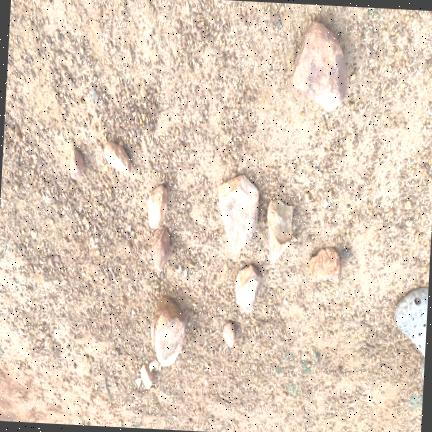Rocks: (291, 21, 346, 109), (218, 174, 257, 252), (150, 296, 184, 365), (267, 199, 292, 262), (235, 264, 259, 311), (309, 247, 340, 280), (151, 226, 171, 271), (103, 141, 130, 174), (147, 184, 166, 228), (70, 147, 83, 179), (140, 363, 155, 388), (223, 321, 234, 346), (151, 46, 160, 64), (47, 253, 59, 266), (13, 125, 21, 142), (149, 358, 158, 370), (140, 85, 148, 98), (54, 30, 62, 42), (341, 248, 349, 258), (134, 377, 142, 387), (13, 180, 19, 192), (44, 35, 50, 46), (79, 46, 84, 54), (283, 297, 287, 304)
